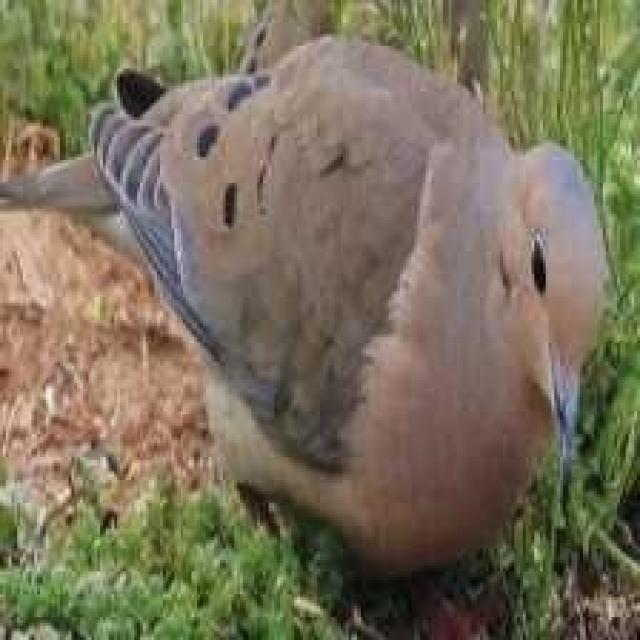bird: (0, 12, 616, 629)
